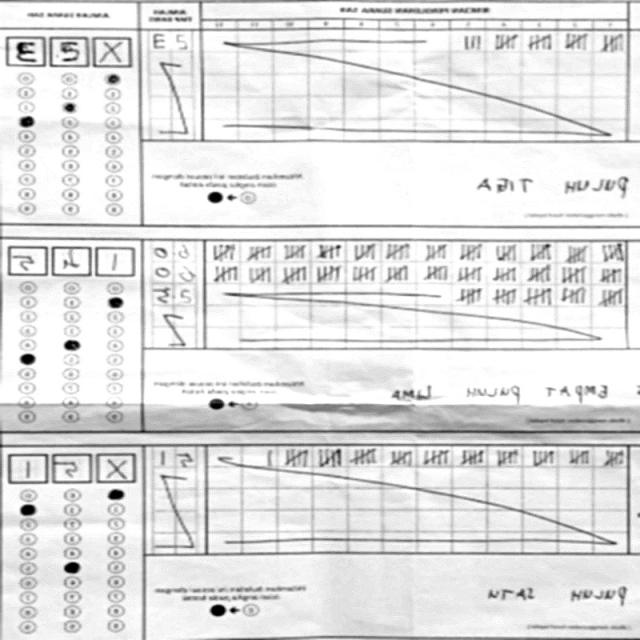Suara: (2, 29, 138, 69), (6, 240, 139, 278), (4, 450, 140, 484)
